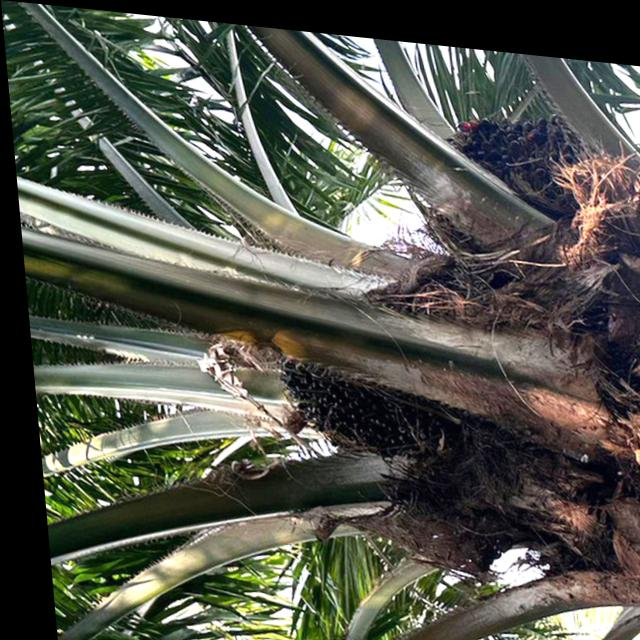ripe: (258, 341, 426, 459)
